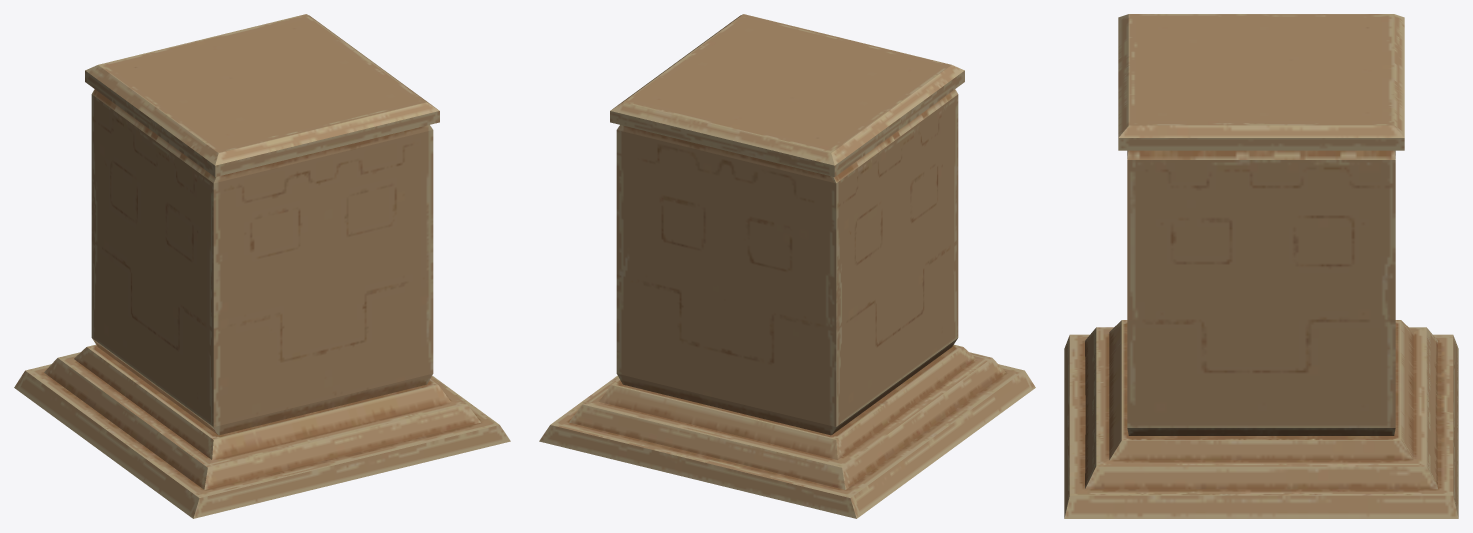
File: ornamentPillarLarge.fbx
The picture shows the model from 3 angles, left to right: view 1: azimuth 30°, elevation 25°; view 2: azimuth 150°, elevation 25°; view 3: azimuth 270°, elevation 25°; orthographic projection. The views are drawn at different scales.
Visible parts, largest first — view 1: ornamentPillarLarge; view 2: ornamentPillarLarge; view 3: ornamentPillarLarge.
Boxes of the visible parts, <box> form: ornamentPillarLarge: <box>14,14,510,518</box>; ornamentPillarLarge: <box>539,14,1035,518</box>; ornamentPillarLarge: <box>1064,14,1458,518</box>.
Bounding box in the file's own units: 4.19 × 4.17 × 4.09.
1 material, 1 textured.
